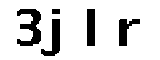3: (10, 3, 42, 48)
I: (80, 7, 103, 53)
j: (40, 4, 74, 60)
r: (114, 14, 147, 47)
